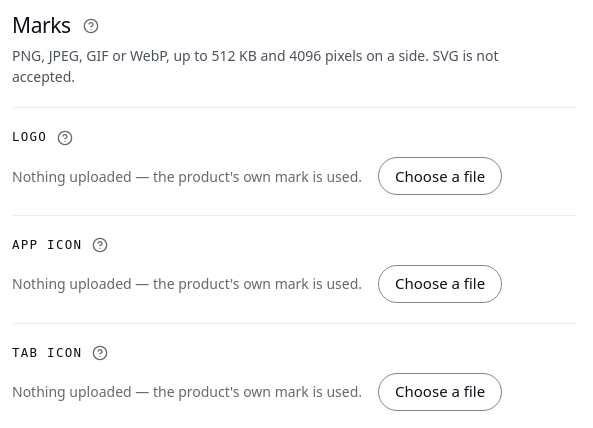
it: ImageSlots, the accepted-format rule and its reasons › keeps the reasons closed until the question mark beside the heading is pressed
Click the button named "Hint" next to "Marks".
click(91, 26)  # box [79, 14, 103, 38]
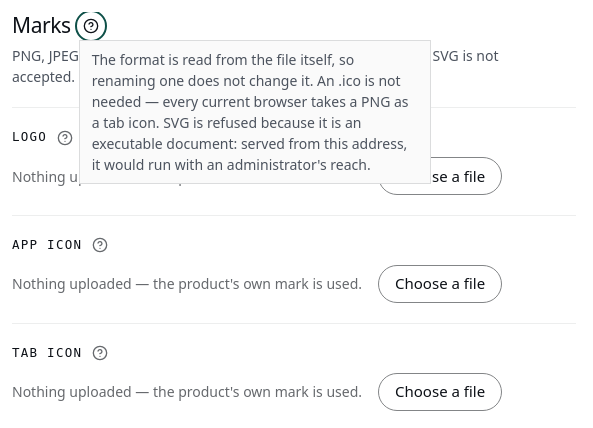
Check: the tooltip "The format is read from the file itself, so renaming one does not change it. An .ico is not needed — every current brows" is shown, box [92, 50, 409, 174]
